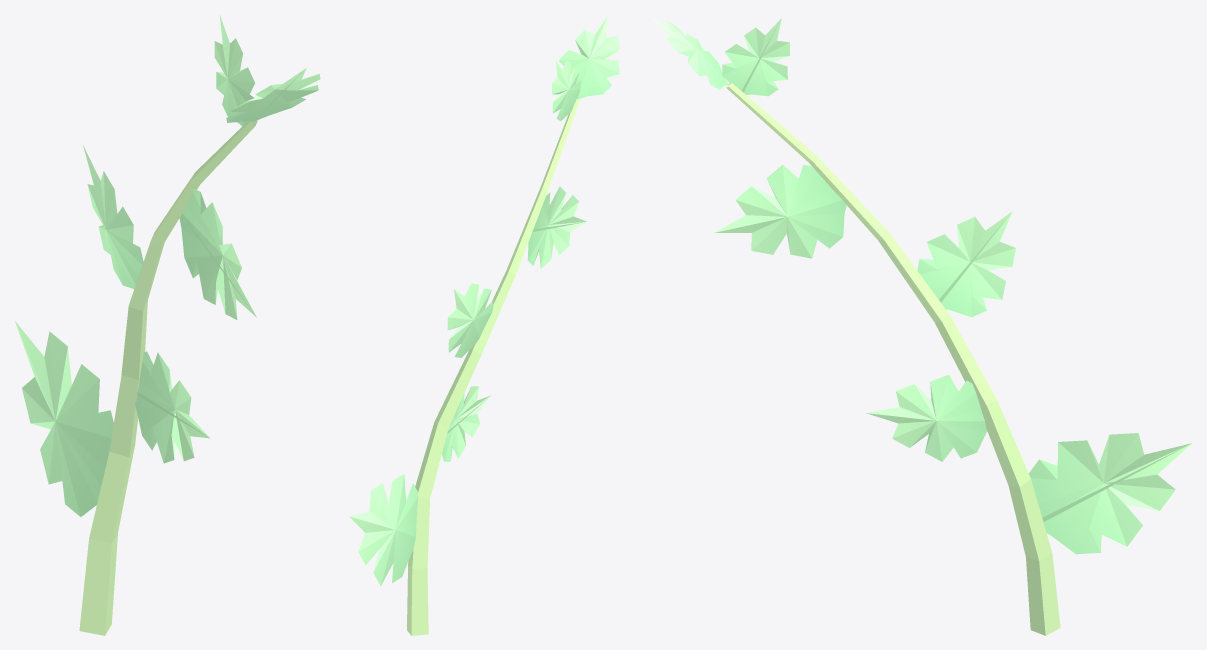
File: costela_cipo.glb
The picture shows the model from 3 angles, left to right: view 1: azimuth 30°, elevation 25°; view 2: azimuth 150°, elevation 25°; view 3: azimuth 270°, elevation 25°; orthographic projection. The views are drawn at different scales.
Parts seen in each view (by area): view 1: CostelaCipo_0; view 2: CostelaCipo_0; view 3: CostelaCipo_0.
Boxes of the visible parts, x1=… form: CostelaCipo_0: x1=14, y1=15, x2=320, y2=635; CostelaCipo_0: x1=349, y1=15, x2=619, y2=635; CostelaCipo_0: x1=648, y1=14, x2=1192, y2=635.
Size of the model in its own units: 0.2984 by 1.99 by 1.63.
